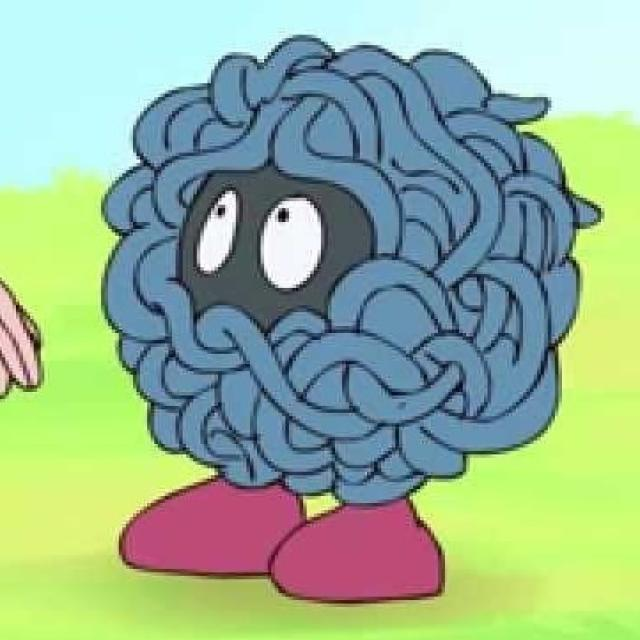Tangela: (67, 41, 599, 631)
